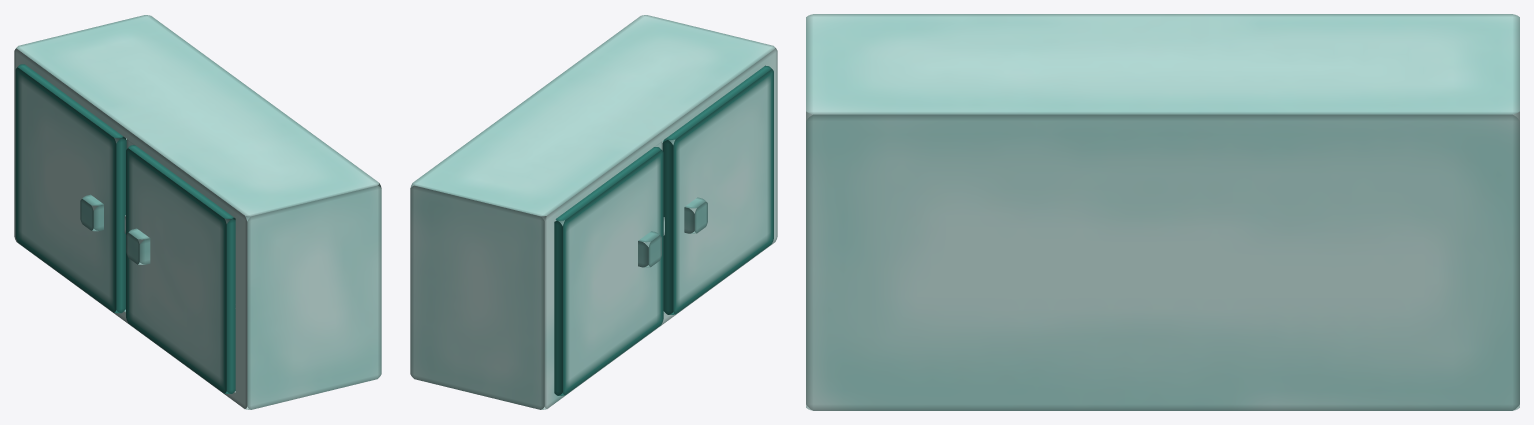
File: shelf3.fbx
The picture shows the model from 3 angles, left to right: view 1: azimuth 30°, elevation 25°; view 2: azimuth 150°, elevation 25°; view 3: azimuth 270°, elevation 25°; orthographic projection. The views are drawn at different scales.
Parts seen in each view (by area): view 1: cuboid, cuboid_4, cuboid_3, cuboid_6, cuboid_5; view 2: cuboid, cuboid_3, cuboid_4, cuboid_6, cuboid_5; view 3: cuboid.
Boxes of the visible parts, left/top/right/bottom form: cuboid: left=14, top=15, right=381, bottom=409; cuboid_4: left=15, top=64, right=126, bottom=313; cuboid_3: left=126, top=145, right=235, bottom=393; cuboid_6: left=126, top=228, right=150, bottom=264; cuboid_5: left=80, top=194, right=103, bottom=231; cuboid: left=410, top=15, right=777, bottom=409; cuboid_3: left=662, top=66, right=773, bottom=314; cuboid_4: left=554, top=147, right=663, bottom=395; cuboid_6: left=684, top=197, right=707, bottom=233; cuboid_5: left=638, top=231, right=661, bottom=267; cuboid: left=806, top=14, right=1519, bottom=410.
Size of the model in its own units: 114 by 138 by 300.
Materials: 1 (1 with a texture image).
